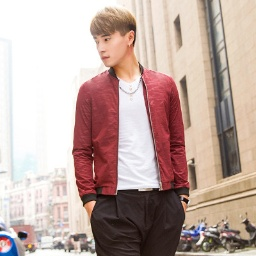face: (90, 5, 137, 70)
